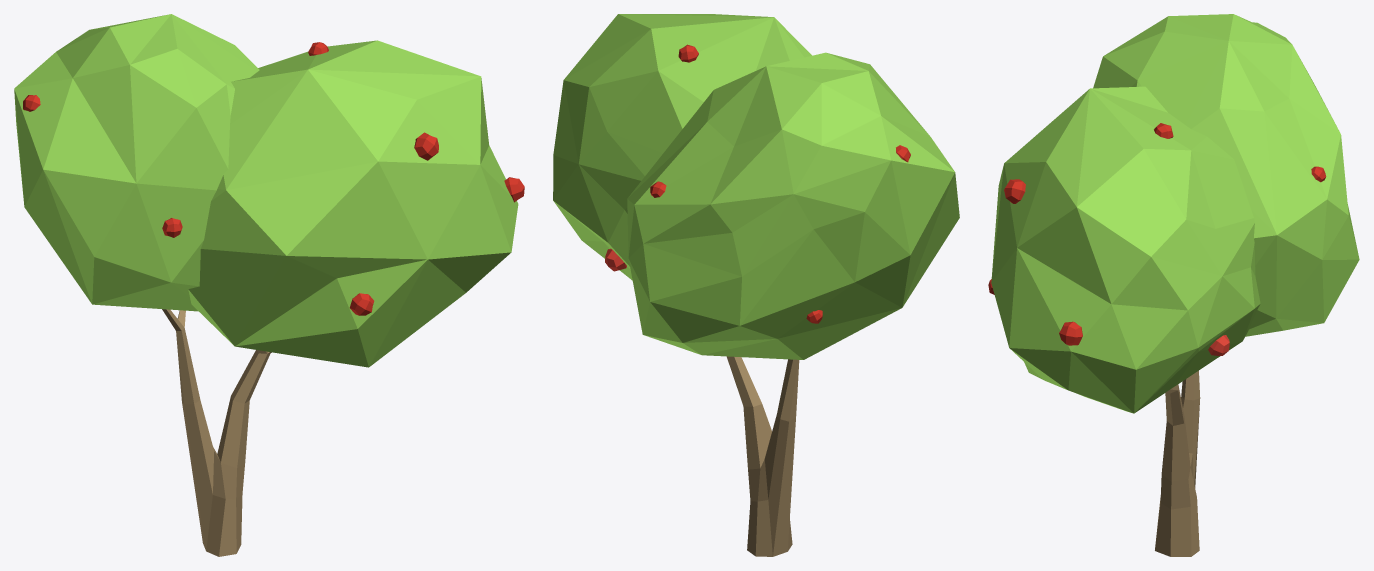
File: Apple_Tree_Apples_m_07.fbx
The picture shows the model from 3 angles, left to right: view 1: azimuth 30°, elevation 25°; view 2: azimuth 150°, elevation 25°; view 3: azimuth 270°, elevation 25°; orthographic projection. The views are drawn at different scales.
Visible parts, largest first — view 1: Apple_Tree_Apples_m_07; view 2: Apple_Tree_Apples_m_07; view 3: Apple_Tree_Apples_m_07.
Part boxes in pixels (<box>): Apple_Tree_Apples_m_07: <box>14,14,524,556</box>; Apple_Tree_Apples_m_07: <box>553,14,959,556</box>; Apple_Tree_Apples_m_07: <box>988,14,1359,556</box>.
Bounding box in the file's own units: 571 × 657 × 444.
